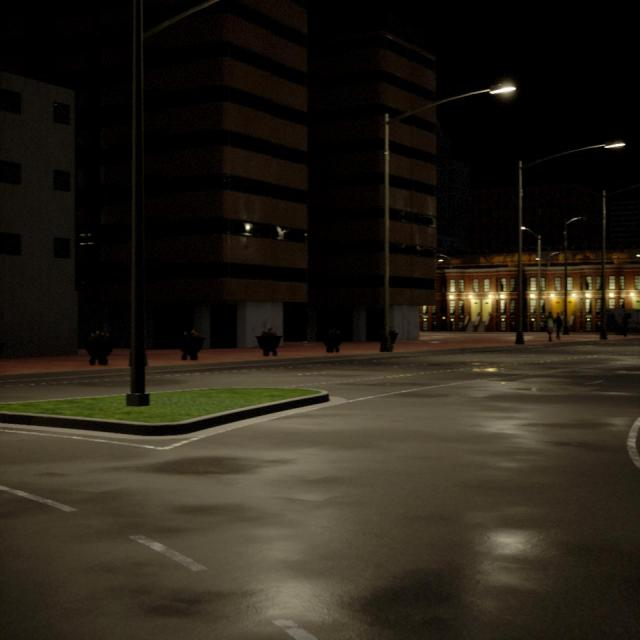Pedestrian: (546, 311, 553, 342), (555, 312, 562, 340), (622, 313, 628, 337)
